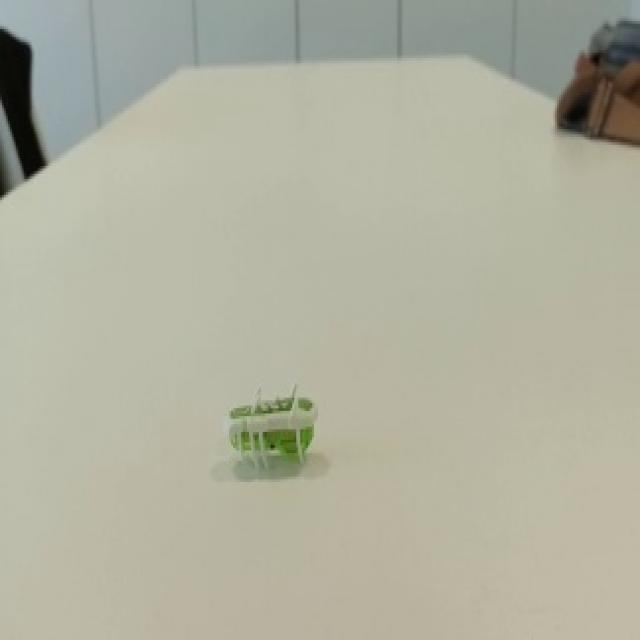4_NanoBug_Blanco: (204, 351, 334, 497)
